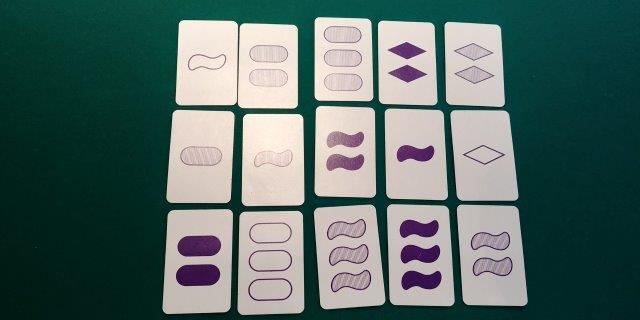1ED: (459, 112, 506, 198)
1EW: (181, 22, 232, 103)
1FW: (388, 111, 440, 198)
1HP: (174, 114, 228, 198)
1HW: (245, 115, 299, 202)
2FD: (381, 24, 432, 101)
2FP: (170, 212, 226, 309)
2FW: (318, 109, 371, 194)
2HD: (448, 27, 498, 101)
2HP: (242, 25, 293, 107)
2HW: (463, 209, 517, 300)
3EP: (241, 213, 300, 309)
3FW: (393, 206, 444, 304)
3HP: (316, 19, 368, 99)
3HW: (320, 209, 374, 303)
